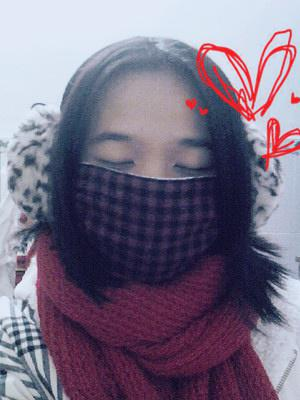OK: (78, 126, 229, 277)
